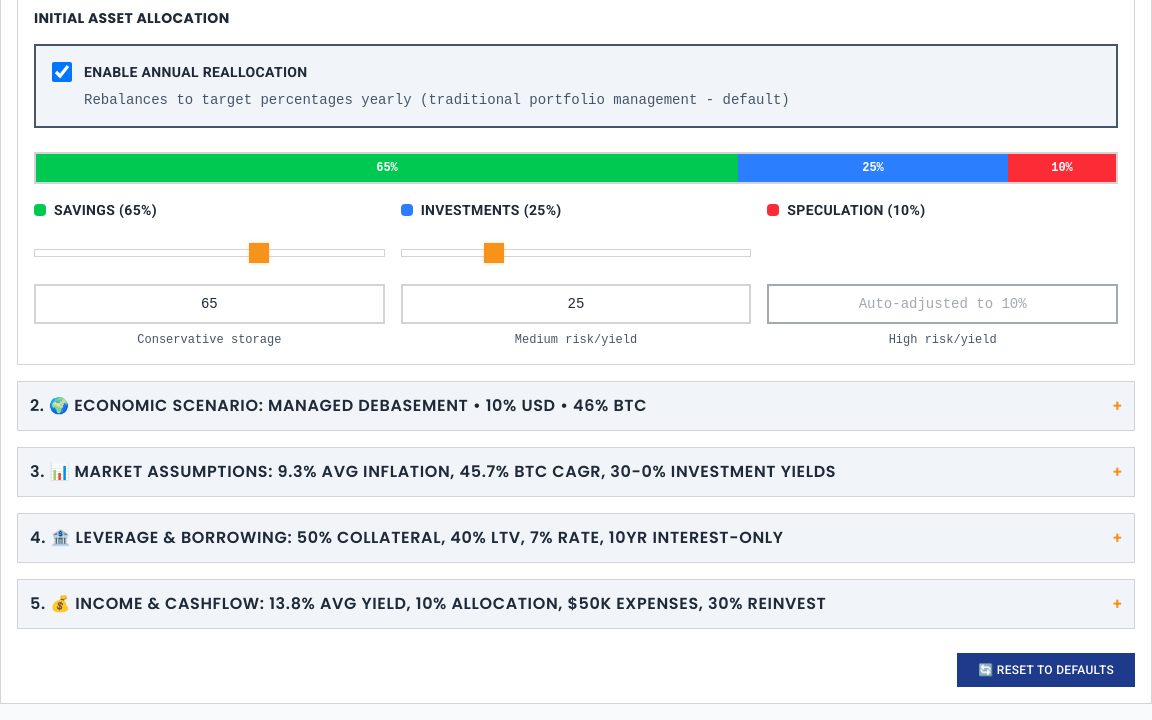
Test: PortfolioForm - CollapsibleSection › should expand and collapse sections correctly
(page scrolled)
Expected: the text "3a. 💵 USD Inflation" is not shown
Note: Click to expand
Step 1. Click the heading "3. 📊 MARKET ASSUMPTIONS" → [433, 472], box [30,460,836,484]
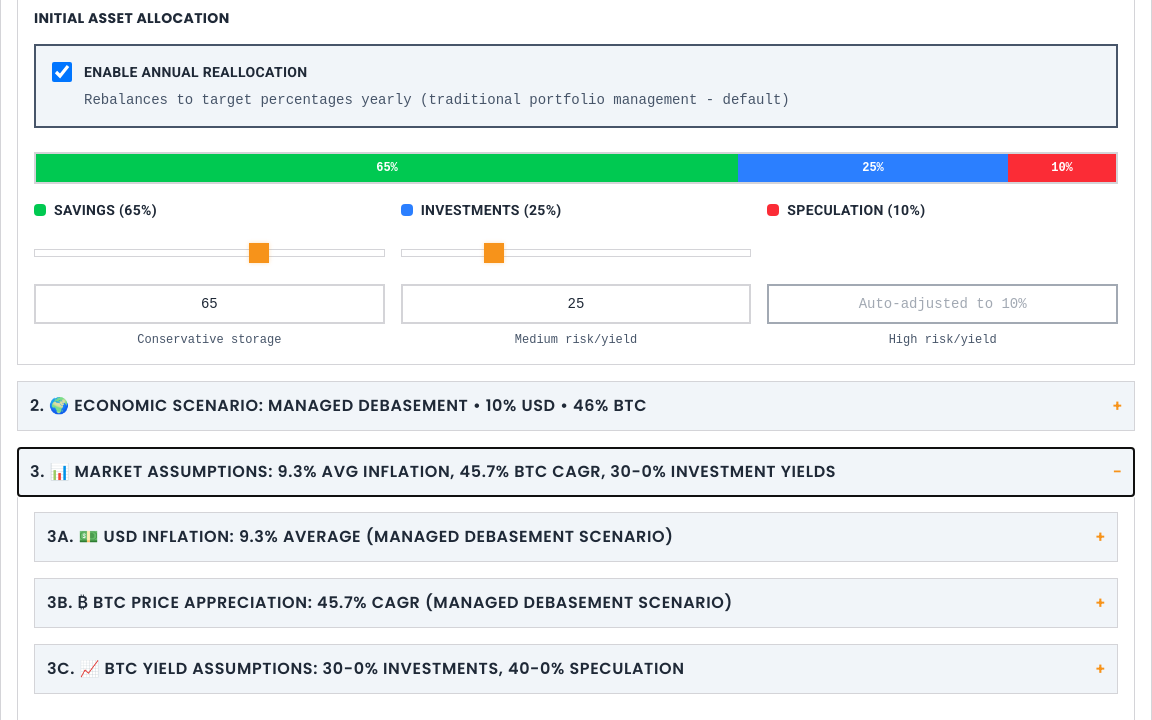
Expected: the heading "3A. 💵 USD INFLATION" is shown, [47,525,674,548]
